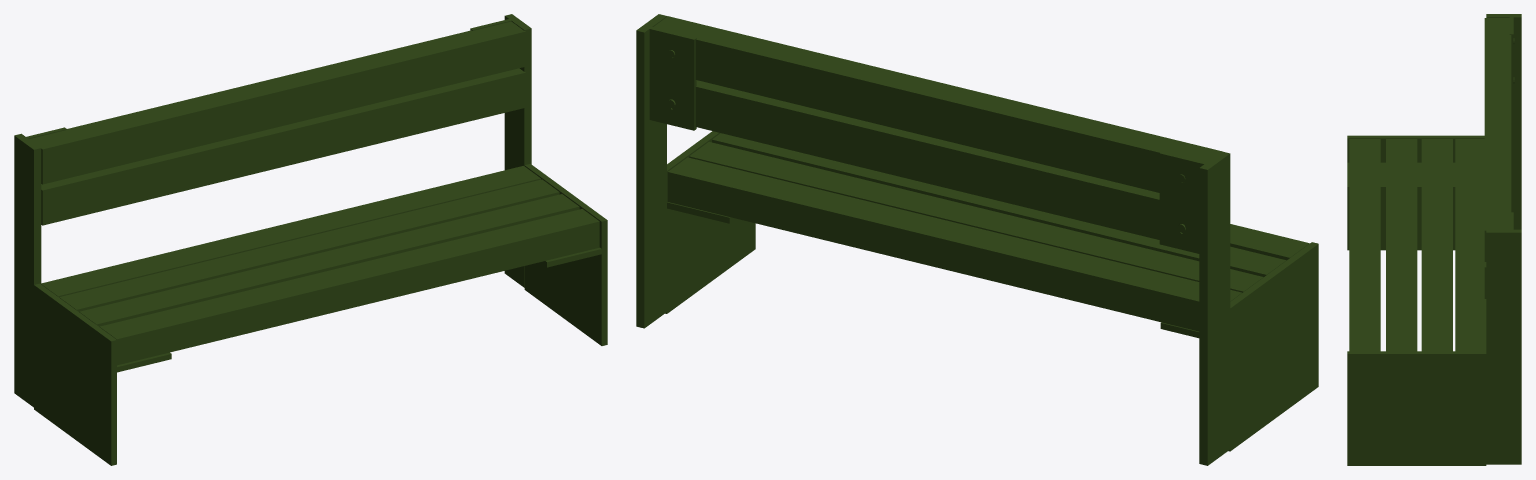
The picture shows the model from 3 angles, left to right: view 1: azimuth 30°, elevation 25°; view 2: azimuth 150°, elevation 25°; view 3: azimuth 270°, elevation 25°; orthographic projection. The views are drawn at different scales.
Visible parts, largest first — view 1: Cylinder.007; view 2: Cylinder.007; view 3: Cylinder.007.
Boxes of the visible parts, <box> form: Cylinder.007: <box>14,14,607,465</box>; Cylinder.007: <box>636,14,1318,465</box>; Cylinder.007: <box>1347,14,1521,465</box>.
Bounding box in the file's own units: 7.45 × 3.71 × 2.51.
